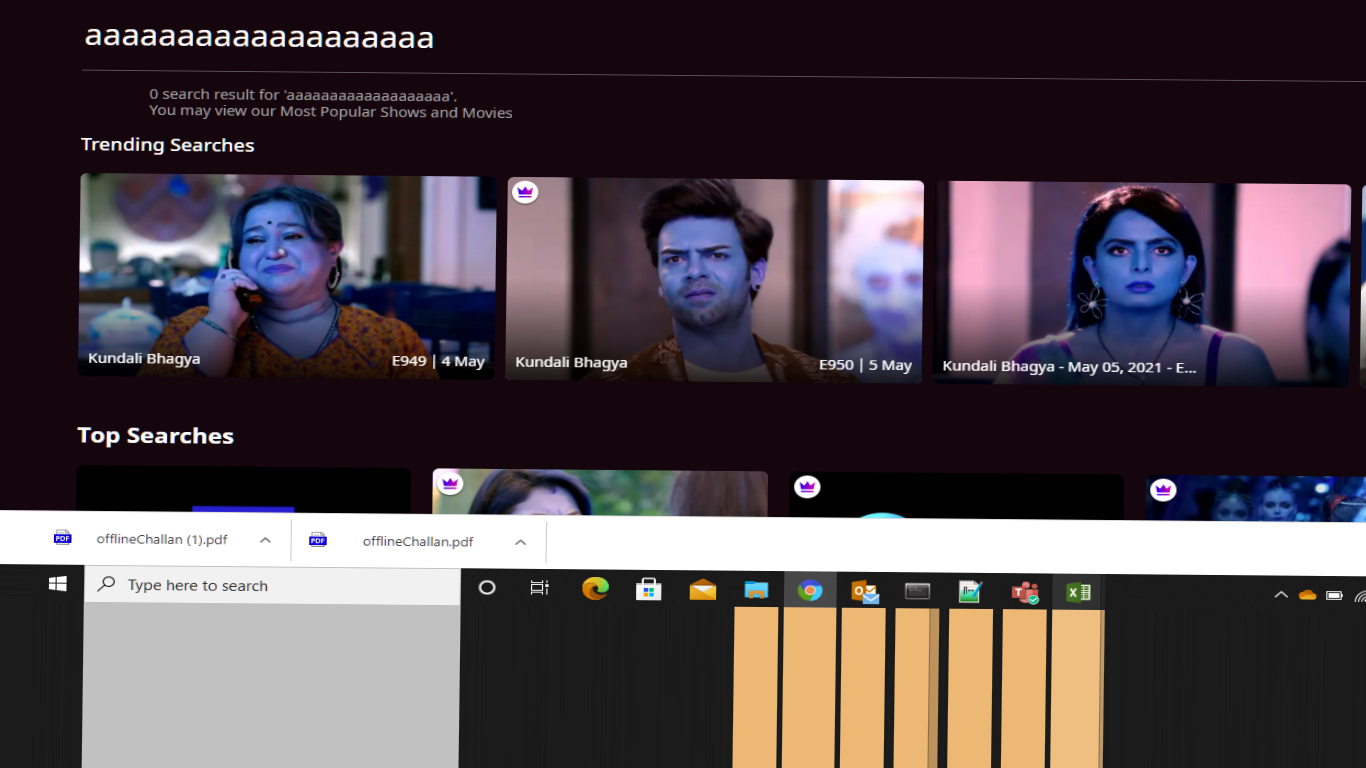noresultsfound: (107, 83, 549, 122)
searchtextbox: (74, 1, 1338, 81)
